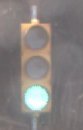Green: (14, 15, 60, 115)
